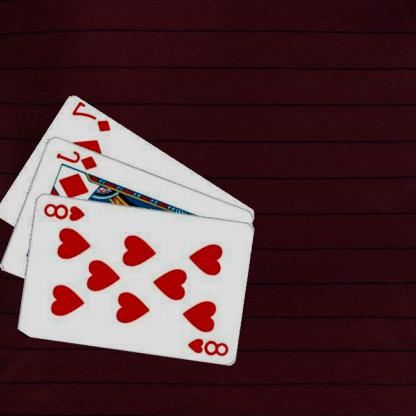7D: (70, 100, 114, 133)
8H: (42, 200, 88, 222), (186, 335, 232, 357)
JD: (56, 148, 100, 171)
